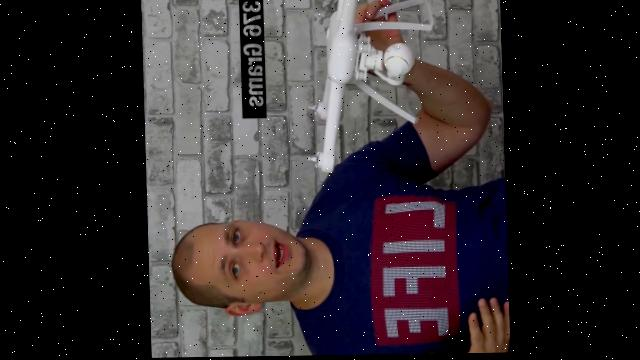drone: (296, 0, 430, 197)
